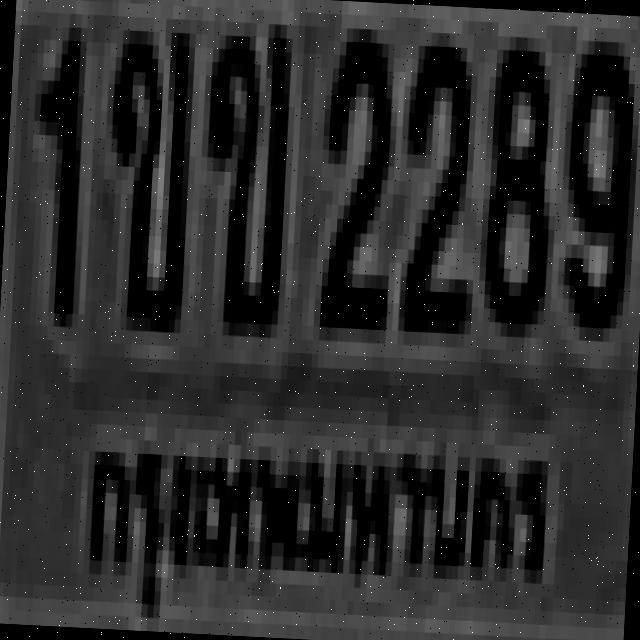1: (24, 26, 82, 314)
11KhorKhai: (193, 21, 293, 325), (96, 16, 190, 319)
2: (314, 20, 396, 323), (392, 31, 473, 320)
8: (477, 23, 553, 324)
9: (556, 27, 638, 330)
Bangkok: (69, 392, 565, 640)
